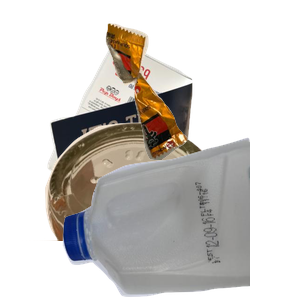glass: (22, 120, 233, 300)
paper: (45, 34, 230, 214)
plastic: (60, 135, 300, 300)
trash: (103, 21, 300, 174)
